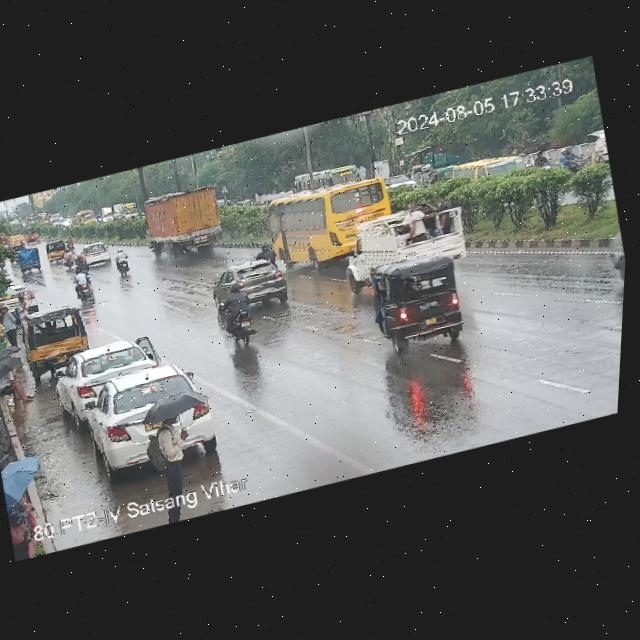bus: (258, 168, 403, 266), (287, 158, 363, 199), (110, 198, 141, 226)
car: (87, 359, 224, 473), (48, 337, 164, 420), (370, 250, 464, 349), (356, 205, 465, 287), (210, 255, 297, 317), (445, 144, 537, 200), (21, 302, 92, 366), (0, 280, 38, 319), (606, 225, 627, 287), (15, 245, 46, 276), (82, 241, 113, 270), (45, 240, 69, 263)
motorcycle: (214, 282, 257, 347), (70, 265, 101, 305), (552, 143, 587, 178), (107, 244, 137, 277)
person: (142, 406, 198, 520), (0, 357, 33, 411), (0, 306, 20, 351)
truck: (143, 184, 228, 263)
